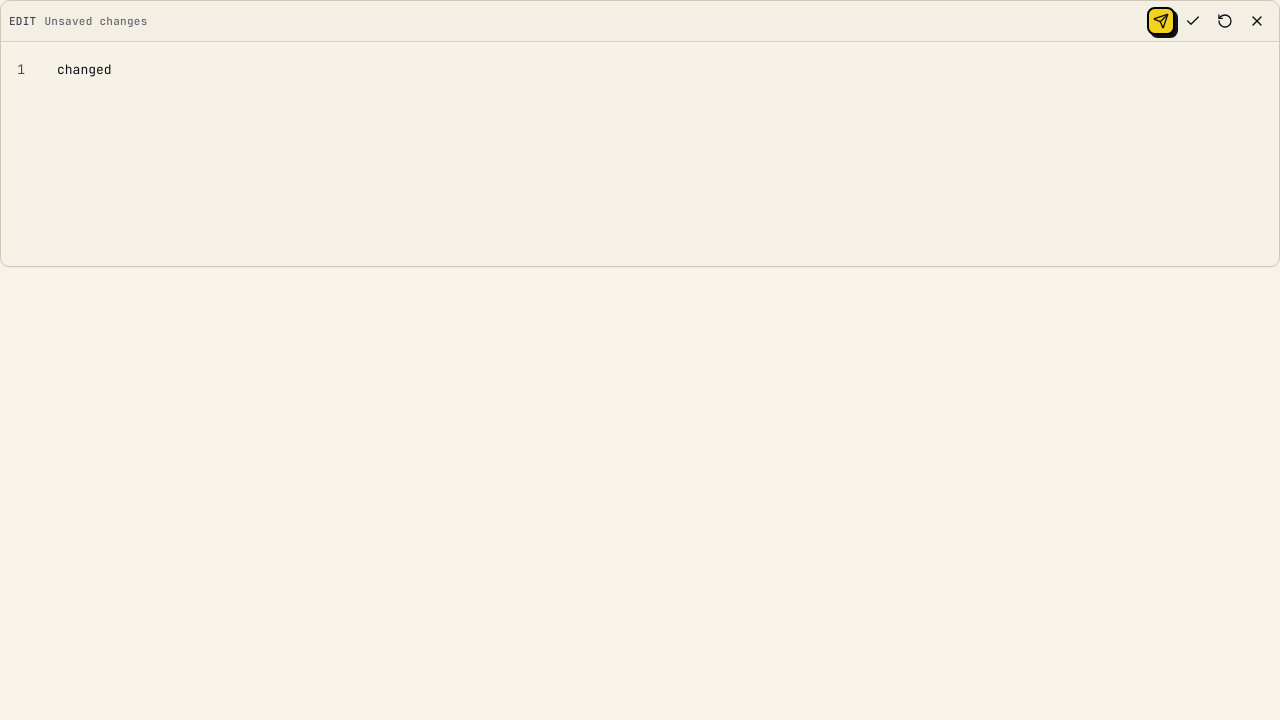
Test: PlaygroundMessageEditor leave warning › keeps the editor open after staying with unsaved changes
The width and height of the screenshot is (1280, 720).
Click the button named "Cancel". click: (1257,21)
box: [1243, 7, 1271, 35]
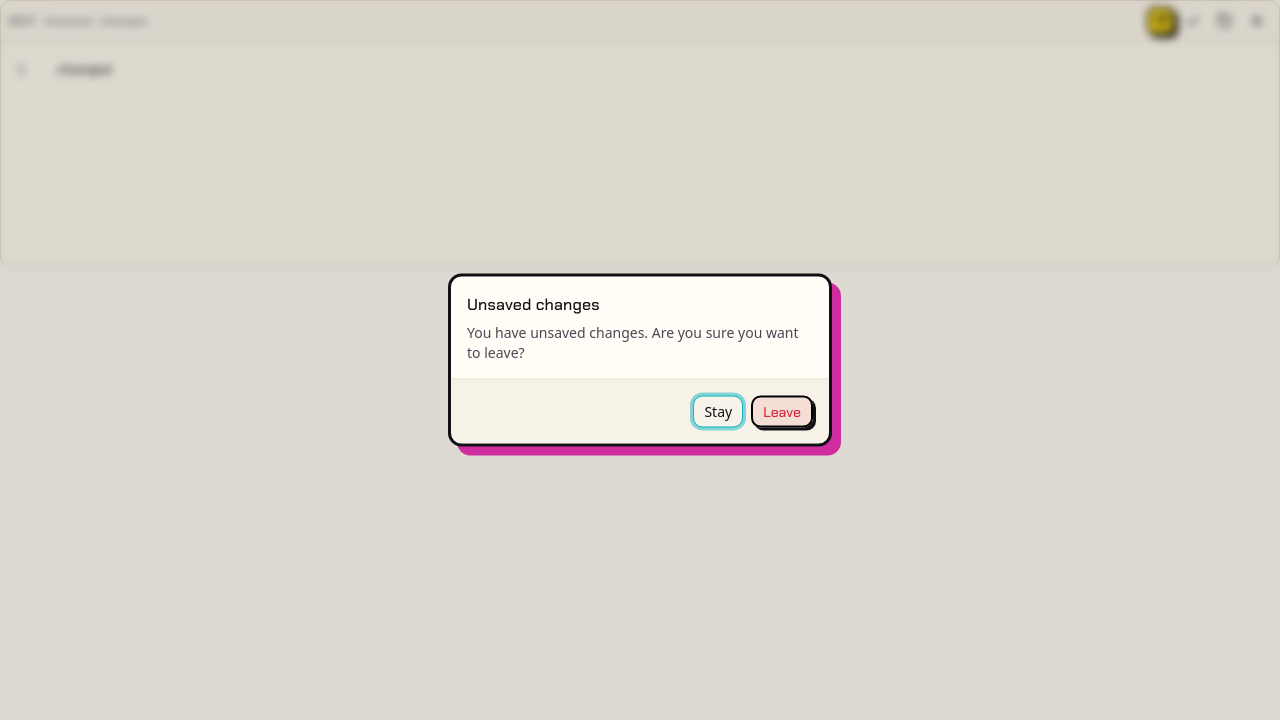
Click the button "Stay". click: (718,412)
box: [693, 396, 743, 428]
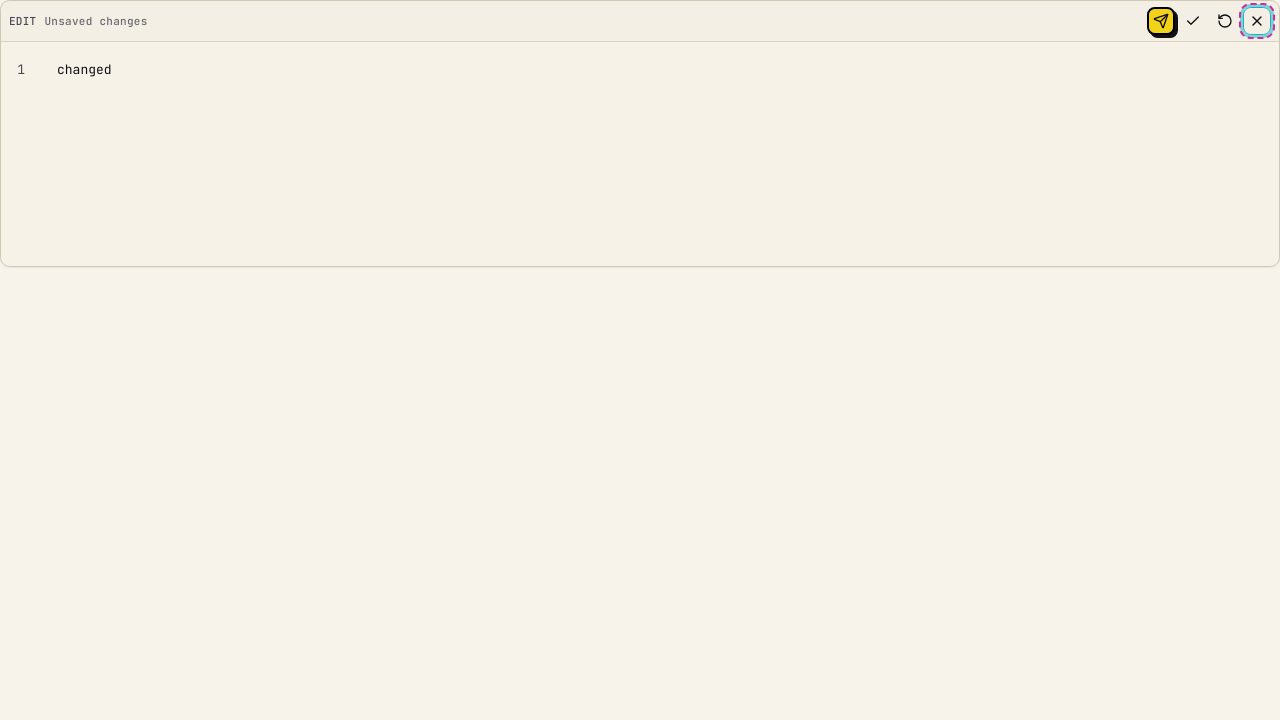
Result: the text "You have unsaved changes. Are you sure you want to leave?" is gone
